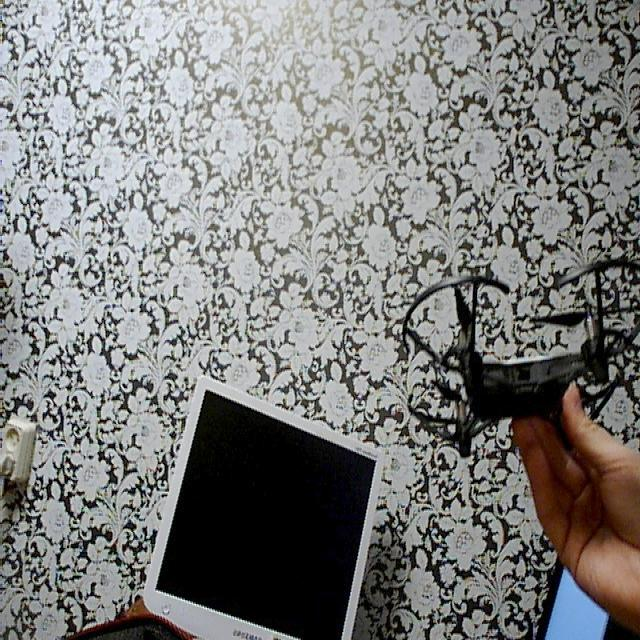drone: (395, 229, 638, 482)
